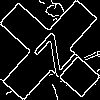Z: (25, 25, 79, 78)
